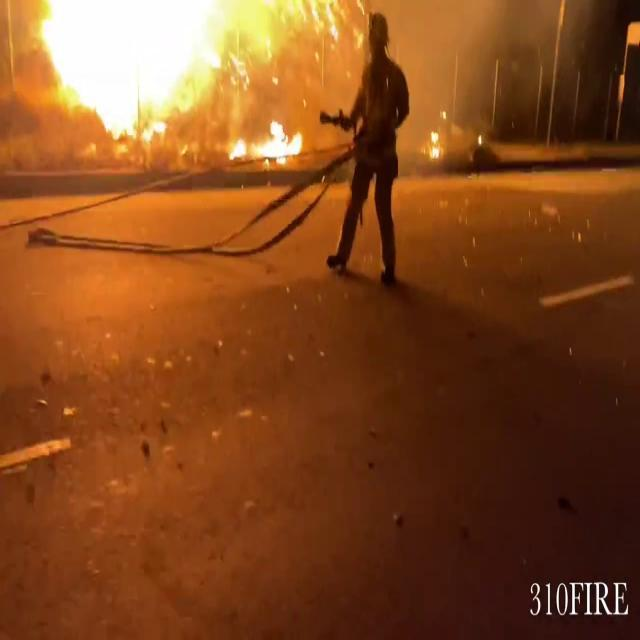Fire: (22, 0, 317, 164)
Smoke: (349, 0, 586, 76)
